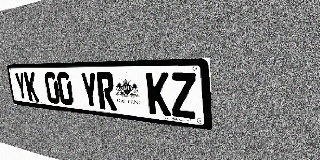0: (56, 72, 74, 106), (43, 72, 60, 104)
K: (146, 72, 171, 116), (24, 72, 39, 102)
R: (96, 72, 117, 110)
Y: (80, 72, 100, 109), (14, 72, 29, 101)
Z: (169, 73, 197, 119)
